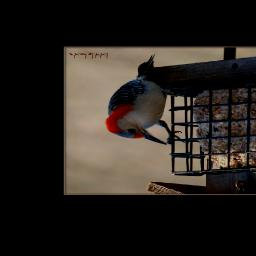Woodpecker: (106, 54, 184, 145)
